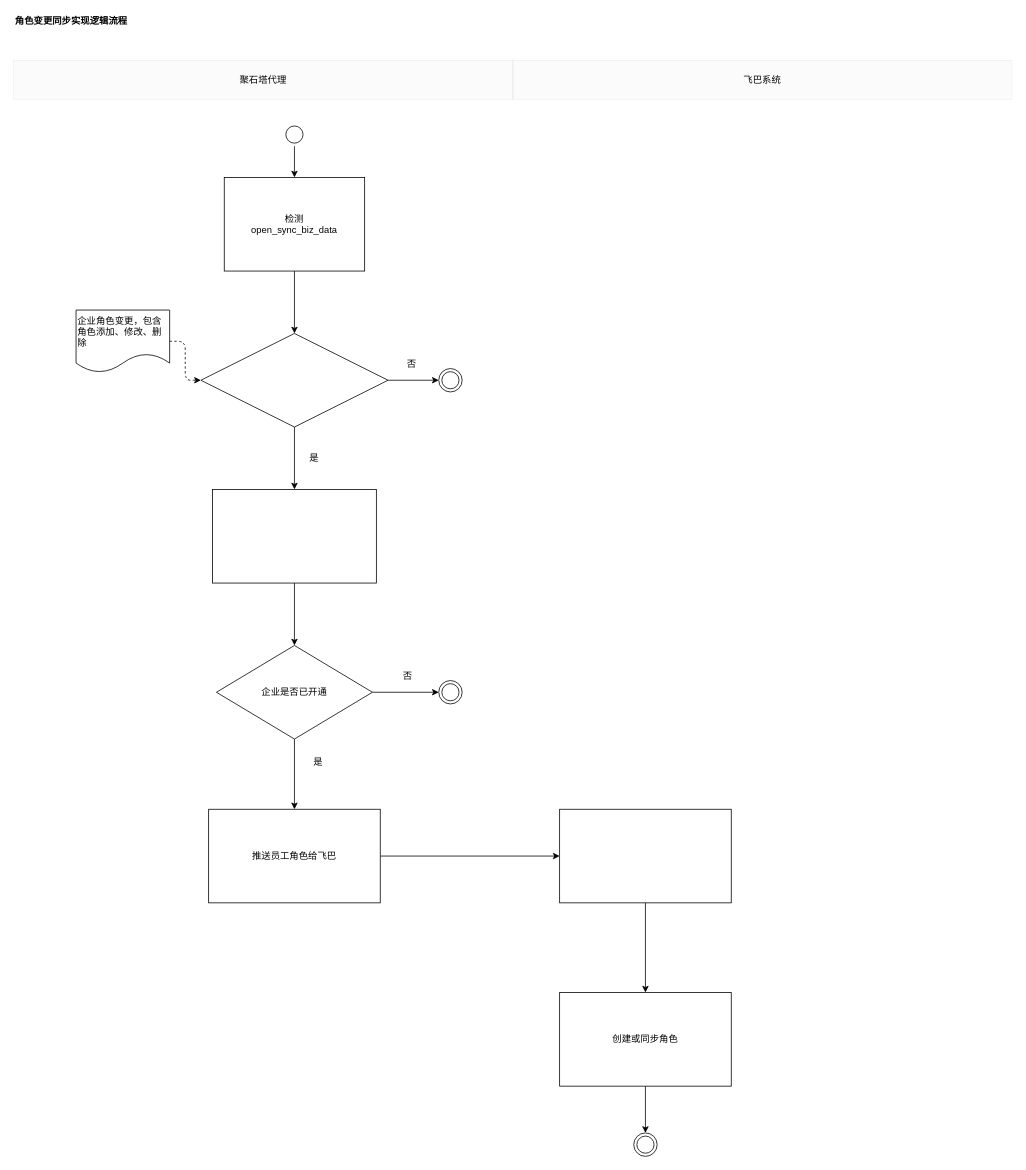
The diagram is 1026 pixels wide and 1170 high, and some of its shapes have lost their labels. Each missing label, with the centre of its shape:
"biz_type=15" goes at [294,380].
"Redis中取当前企业开通状态" goes at [294,536].
"角色批量同步接口" goes at [645,855].
